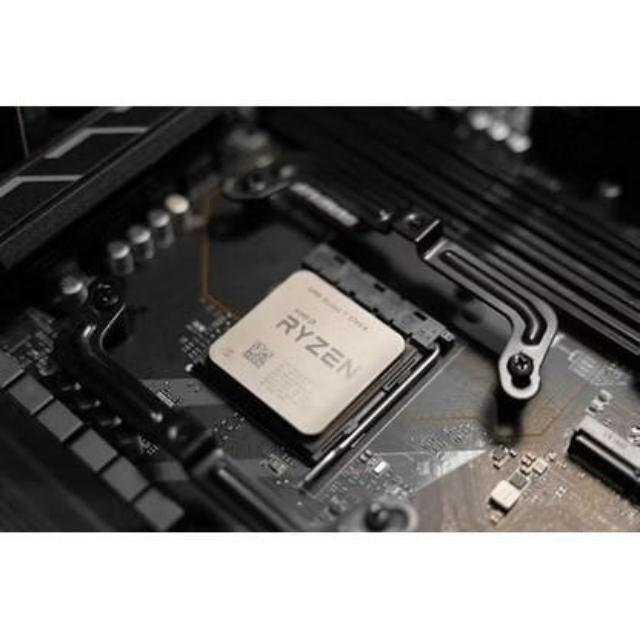CPU: (205, 270, 406, 444)
